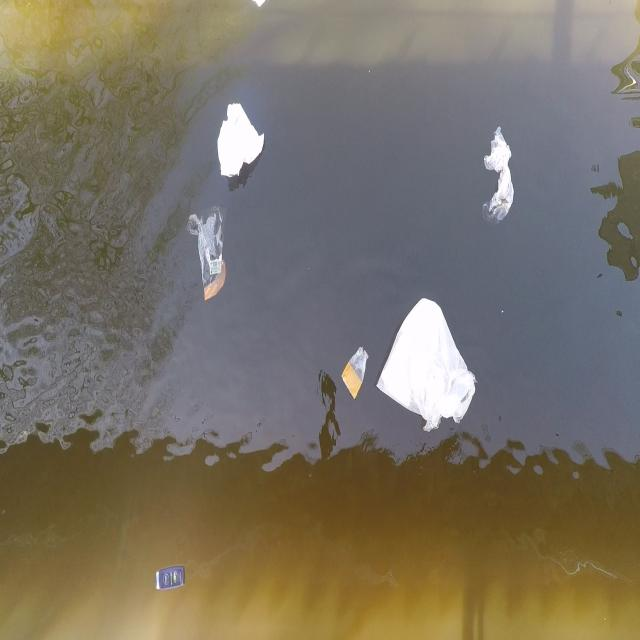Sac plastique: (375, 290, 479, 436), (210, 96, 268, 183), (476, 120, 518, 228), (187, 207, 231, 307), (339, 345, 369, 411)
